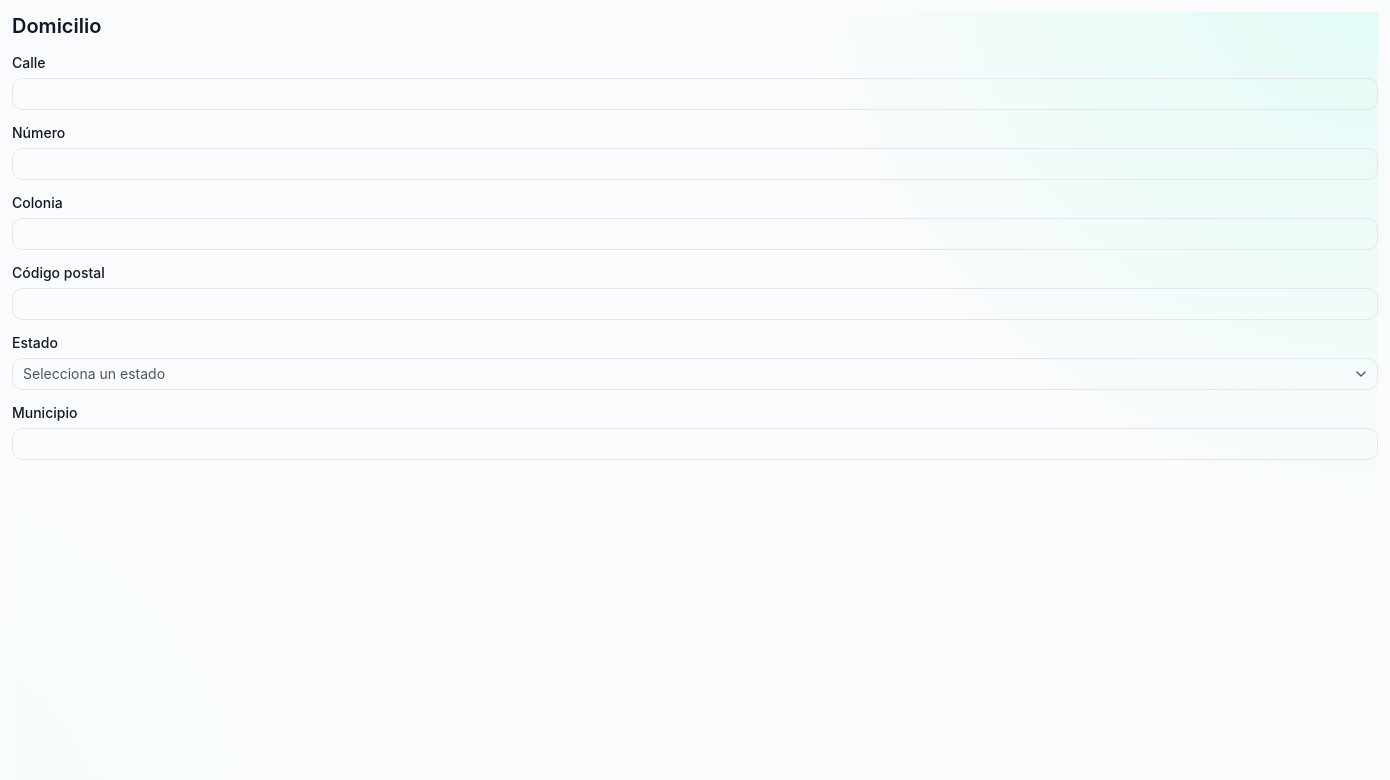
Test: DomicilioStep › renders the estado Select populated with all 32 Mexican states
Step 1. Click the dropdown labelled "estado" → (94, 374), box [12,358,1378,390]
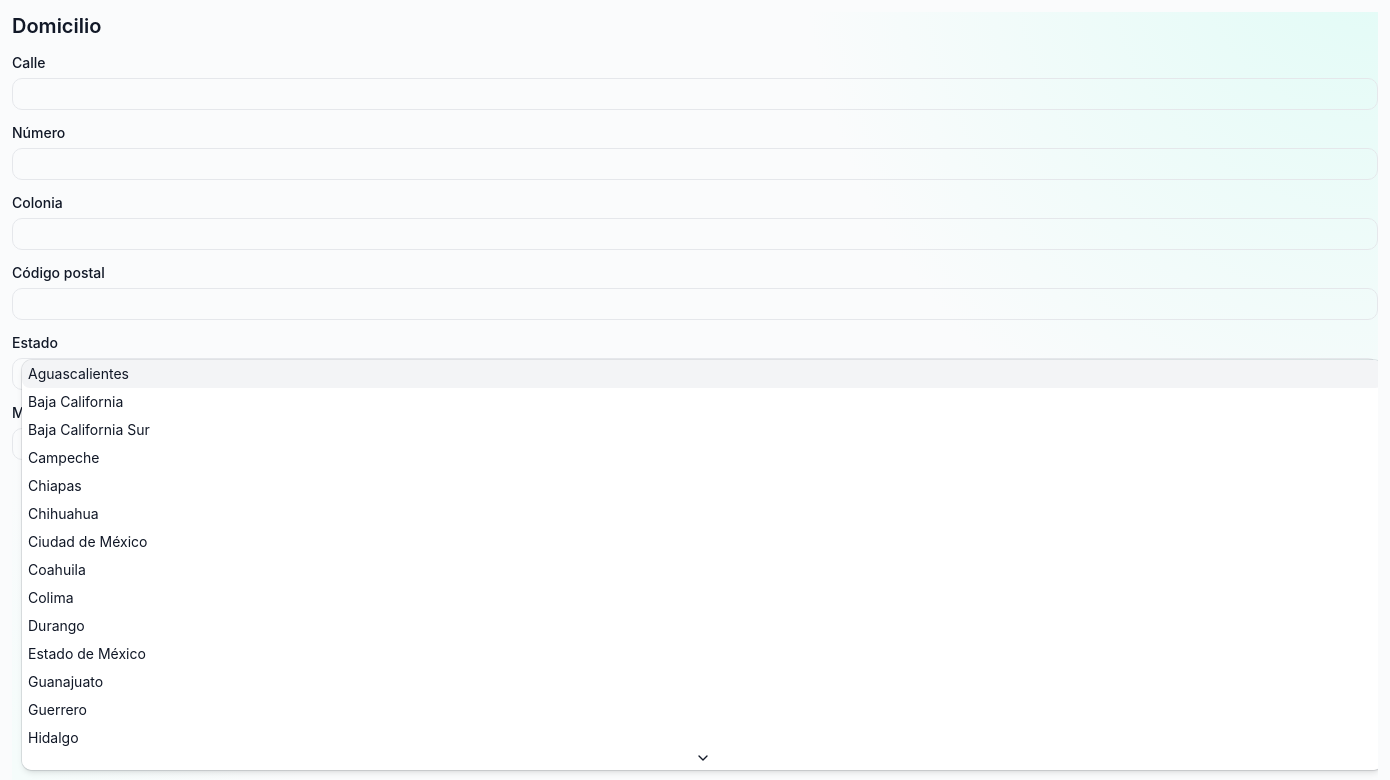
Now the option "Ciudad de México" is shown, box [28,533,147,550]
